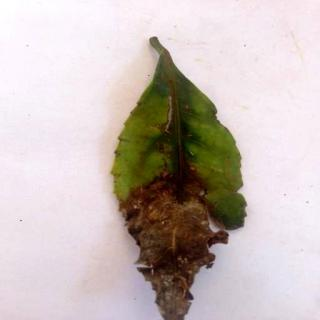Brown Blight: (117, 38, 248, 320)
